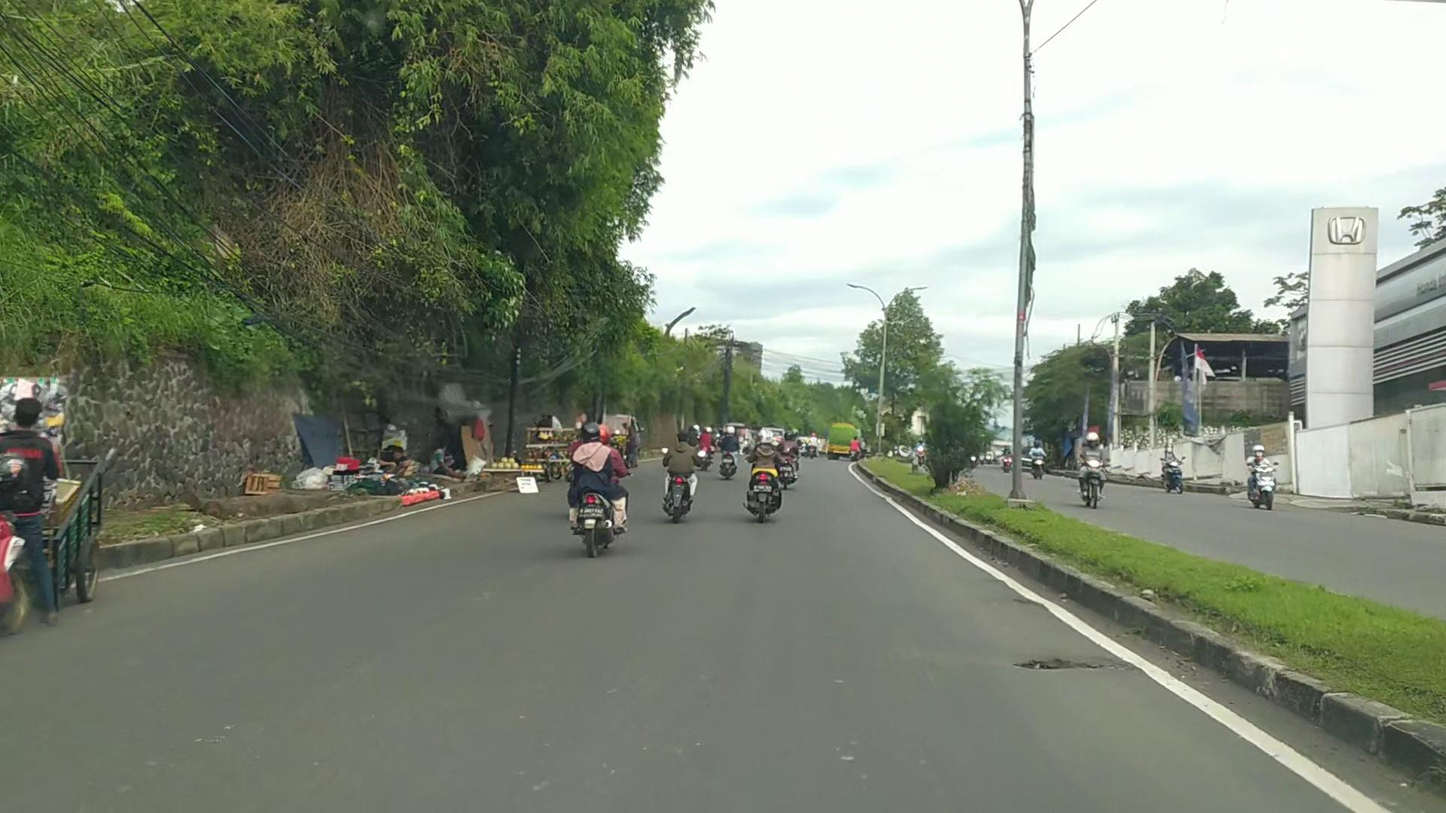pothole: (1012, 654, 1111, 673)
